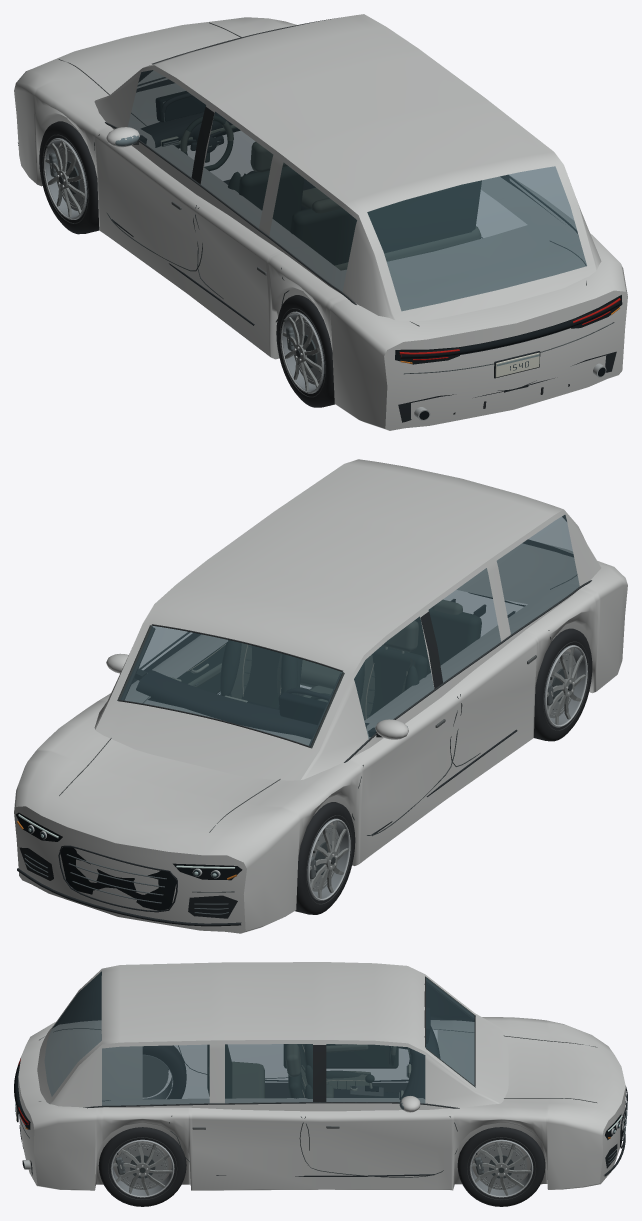
Rendered from arden-rs.glb.
The picture shows the model from 3 angles, top to bottom: view 1: azimuth 30°, elevation 25°; view 2: azimuth 150°, elevation 25°; view 3: azimuth 270°, elevation 25°; orthographic projection. The views are drawn at different scales.
Parts seen in each view (by area): view 1: paint, glass, SeatUpholstery, wheelSurface (×2), trim, CabinMouldings, SteeringLeather; view 2: paint, glass, trim, SeatUpholstery, wheelSurface (×2), CabinMouldings, CabinLeather; view 3: paint, glass, wheelSurface (×3), trim, SeatUpholstery, CabinMouldings, CabinLeather, CockpitHardware.
Part boxes in pixels (x1,y1,x2,y2): paint: (14, 14, 627, 430); glass: (115, 70, 586, 310); SeatUpholstery: (228, 142, 481, 270); wheelSurface (×2): (39, 121, 334, 407); trim: (18, 18, 622, 422); CabinMouldings: (141, 91, 315, 209); SteeringLeather: (180, 116, 233, 170); paint: (14, 459, 627, 933); glass: (120, 515, 579, 745); trim: (16, 515, 591, 926); SeatUpholstery: (220, 600, 481, 720); wheelSurface (×2): (295, 628, 592, 914); CabinMouldings: (136, 670, 368, 738); CabinLeather: (177, 643, 332, 709); paint: (18, 962, 625, 1190); glass: (44, 971, 474, 1109); wheelSurface (×3): (98, 1045, 545, 1206); trim: (14, 971, 627, 1177); SeatUpholstery: (207, 1044, 370, 1098); CabinMouldings: (265, 1007, 439, 1098); CabinLeather: (284, 1044, 409, 1097); CockpitHardware: (349, 1048, 410, 1099).
Size of the model in its own units: 2.14 by 1.47 by 5.01.
